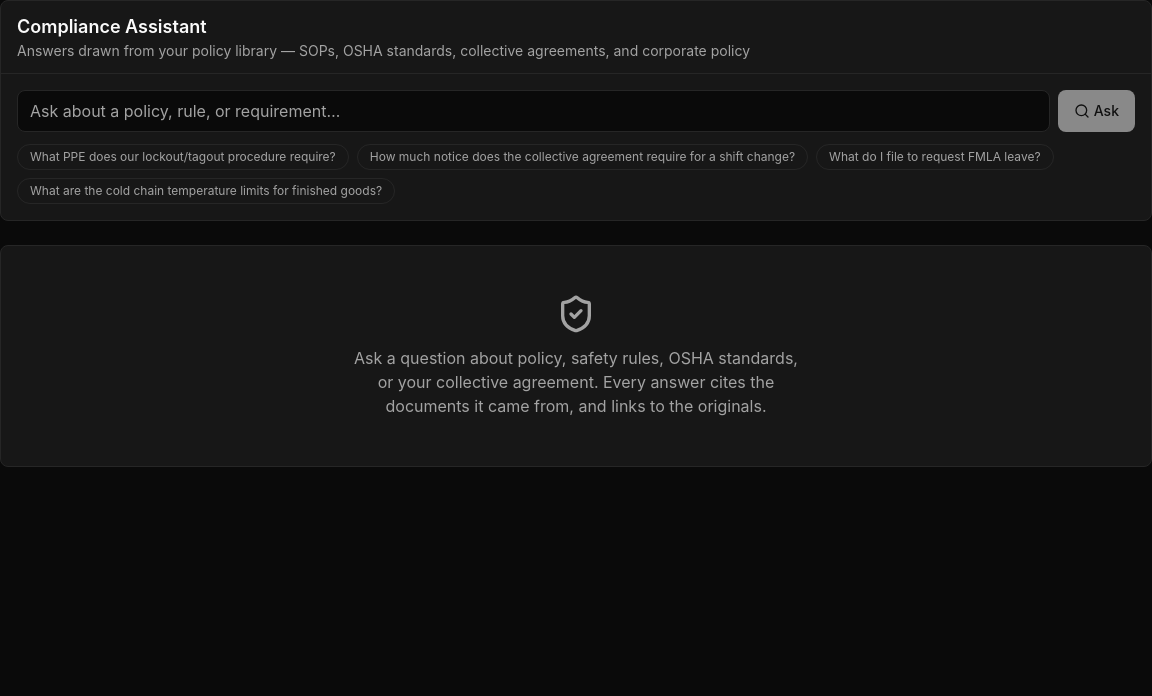
Test: Compliance Assistant › opening a document › a failed link is visible, not swallowed
Type "lockout procedure" into the field named "Compliance question".
click(533, 111); type("lockout procedure")  # box [17, 90, 1050, 132]
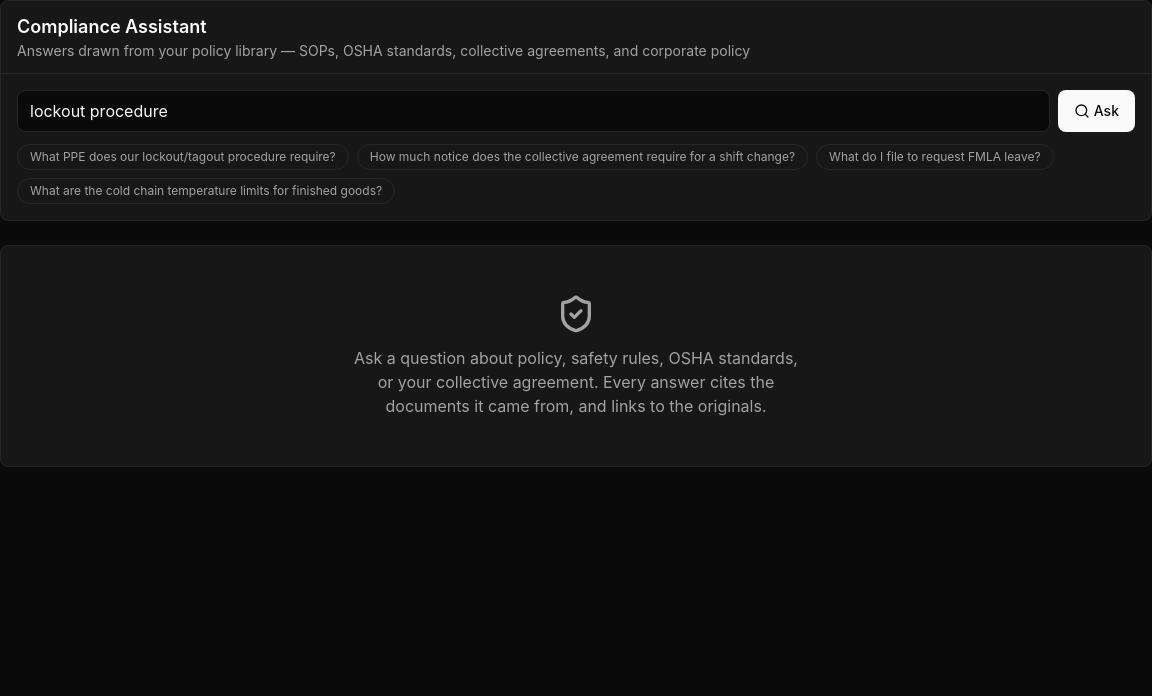
Click the button "Ask".
click(1096, 111)  # box [1058, 90, 1135, 132]
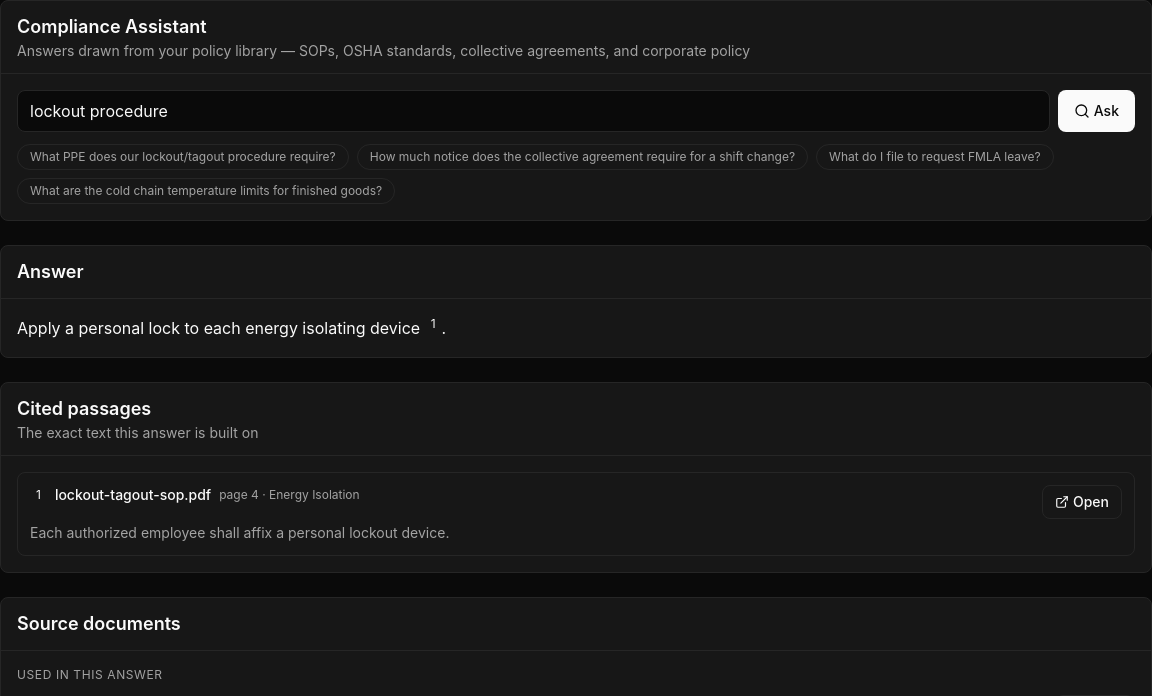
Result: the button "Open" in the row of "page 4 · Energy Isolation" is shown
Click the button "Open" in the row of "page 4 · Energy Isolation".
click(1082, 502)  # box [1042, 485, 1122, 519]
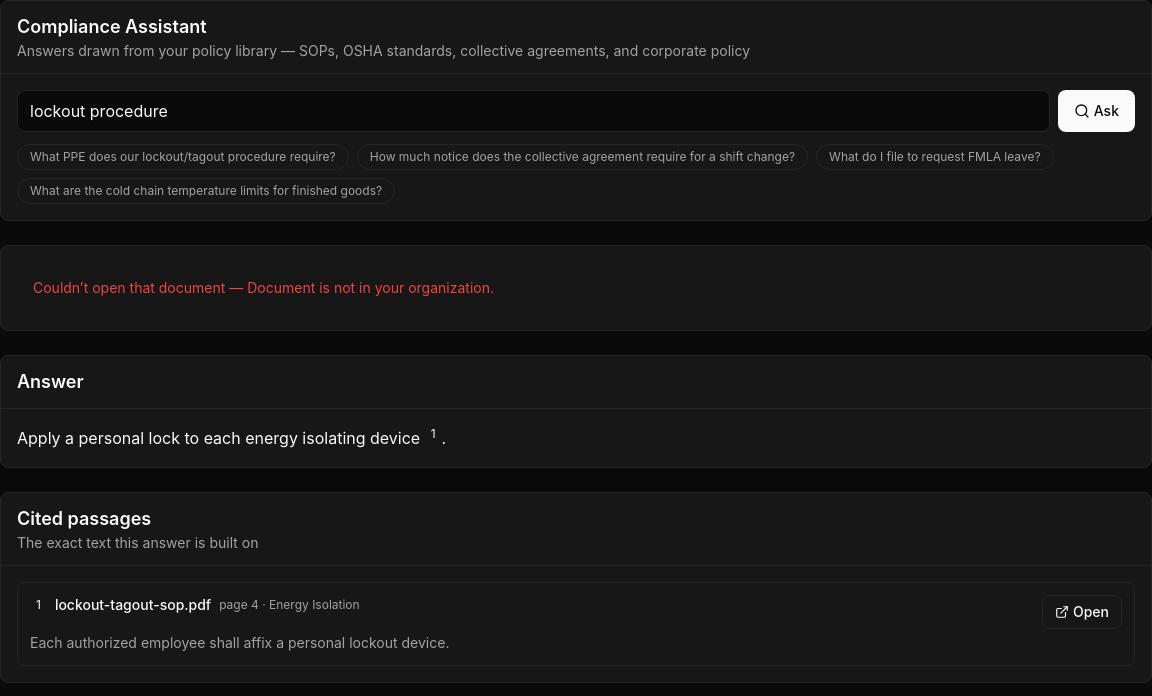
Result: the text "Couldn’t open that document — Document is not in your organization." is shown at [33, 279, 494, 296]
